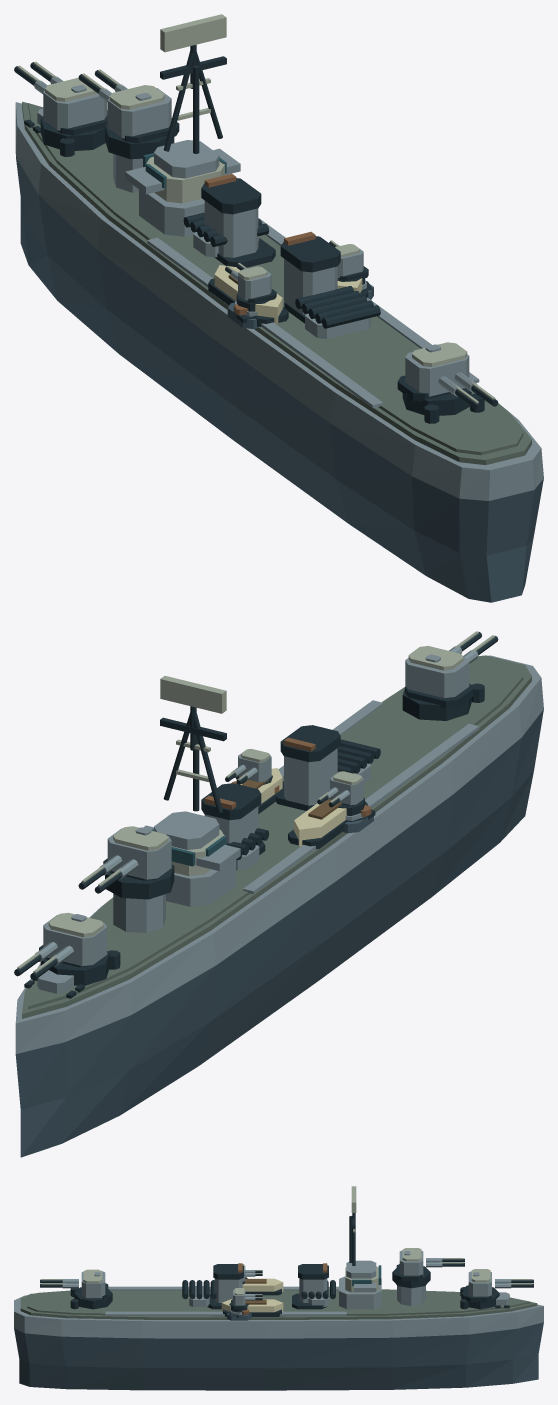
File: historic-gearing.glb
The picture shows the model from 3 angles, top to bottom: view 1: azimuth 30°, elevation 25°; view 2: azimuth 150°, elevation 25°; view 3: azimuth 270°, elevation 25°; orthographic projection. The views are drawn at different scales.
Visible parts, largest first — view 1: historic-gearing-historic-gearing-geometry, historic-gearing-part_bridge.133-geometry, historic-gearing-turret_main_1.095-geometry, historic-gearing-turret_main_2.081-geometry, historic-gearing-turret_main_0.102-geometry, historic-gearing-historic_funnel_0.126-geometry, historic-gearing-historic_funnel_1.071-geometry, historic-gearing-torpedo_bank_0.042-geometry, historic-gearing-turret_aa_aa-port.135-geometry, historic-gearing-torpedo_bank_1.039-geometry, historic-gearing-turret_aa_aa-starboard.131-geometry; view 2: historic-gearing-historic-gearing-geometry, historic-gearing-part_bridge.133-geometry, historic-gearing-turret_main_2.081-geometry, historic-gearing-turret_main_1.095-geometry, historic-gearing-turret_main_0.102-geometry, historic-gearing-historic_funnel_1.071-geometry, historic-gearing-historic_funnel_0.126-geometry, historic-gearing-turret_aa_aa-port.135-geometry, historic-gearing-torpedo_bank_0.042-geometry, historic-gearing-turret_aa_aa-starboard.131-geometry, historic-gearing-torpedo_bank_1.039-geometry; view 3: historic-gearing-historic-gearing-geometry, historic-gearing-part_bridge.133-geometry, historic-gearing-turret_main_1.095-geometry, historic-gearing-turret_main_2.081-geometry, historic-gearing-turret_main_0.102-geometry, historic-gearing-historic_funnel_0.126-geometry, historic-gearing-historic_funnel_1.071-geometry, historic-gearing-torpedo_bank_0.042-geometry, historic-gearing-torpedo_bank_1.039-geometry, historic-gearing-turret_aa_aa-starboard.131-geometry.
Part boxes in pixels (x1,y1,x2,y2): historic-gearing-historic-gearing-geometry: [15, 101, 543, 602]; historic-gearing-part_bridge.133-geometry: [125, 14, 240, 236]; historic-gearing-turret_main_1.095-geometry: [78, 69, 179, 159]; historic-gearing-turret_main_2.081-geometry: [397, 342, 498, 415]; historic-gearing-turret_main_0.102-geometry: [14, 61, 107, 150]; historic-gearing-historic_funnel_0.126-geometry: [201, 173, 275, 267]; historic-gearing-historic_funnel_1.071-geometry: [280, 231, 340, 323]; historic-gearing-torpedo_bank_0.042-geometry: [295, 286, 380, 338]; historic-gearing-turret_aa_aa-port.135-geometry: [225, 263, 276, 311]; historic-gearing-torpedo_bank_1.039-geometry: [183, 212, 269, 257]; historic-gearing-turret_aa_aa-starboard.131-geometry: [329, 240, 368, 284]; historic-gearing-historic-gearing-geometry: [15, 655, 543, 1157]; historic-gearing-part_bridge.133-geometry: [143, 676, 240, 906]; historic-gearing-turret_main_2.081-geometry: [402, 631, 498, 720]; historic-gearing-turret_main_1.095-geometry: [78, 826, 174, 899]; historic-gearing-turret_main_0.102-geometry: [14, 912, 109, 985]; historic-gearing-historic_funnel_1.071-geometry: [276, 725, 340, 810]; historic-gearing-historic_funnel_0.126-geometry: [201, 783, 265, 854]; historic-gearing-turret_aa_aa-port.135-geometry: [317, 771, 364, 815]; historic-gearing-torpedo_bank_0.042-geometry: [337, 739, 380, 783]; historic-gearing-turret_aa_aa-starboard.131-geometry: [225, 748, 272, 784]; historic-gearing-torpedo_bank_1.039-geometry: [226, 828, 269, 870]; historic-gearing-historic-gearing-geometry: [14, 1278, 543, 1390]; historic-gearing-part_bridge.133-geometry: [339, 1186, 381, 1309]; historic-gearing-turret_main_1.095-geometry: [392, 1248, 464, 1288]; historic-gearing-turret_main_2.081-geometry: [40, 1269, 112, 1309]; historic-gearing-turret_main_0.102-geometry: [461, 1269, 533, 1309]; historic-gearing-historic_funnel_0.126-geometry: [292, 1263, 328, 1309]; historic-gearing-historic_funnel_1.071-geometry: [207, 1263, 243, 1309]; historic-gearing-torpedo_bank_0.042-geometry: [182, 1280, 216, 1306]; historic-gearing-torpedo_bank_1.039-geometry: [301, 1280, 335, 1306]; historic-gearing-turret_aa_aa-starboard.131-geometry: [229, 1288, 262, 1312].
Size of the model in its own units: 0.6388 by 1.58 by 4.11.
